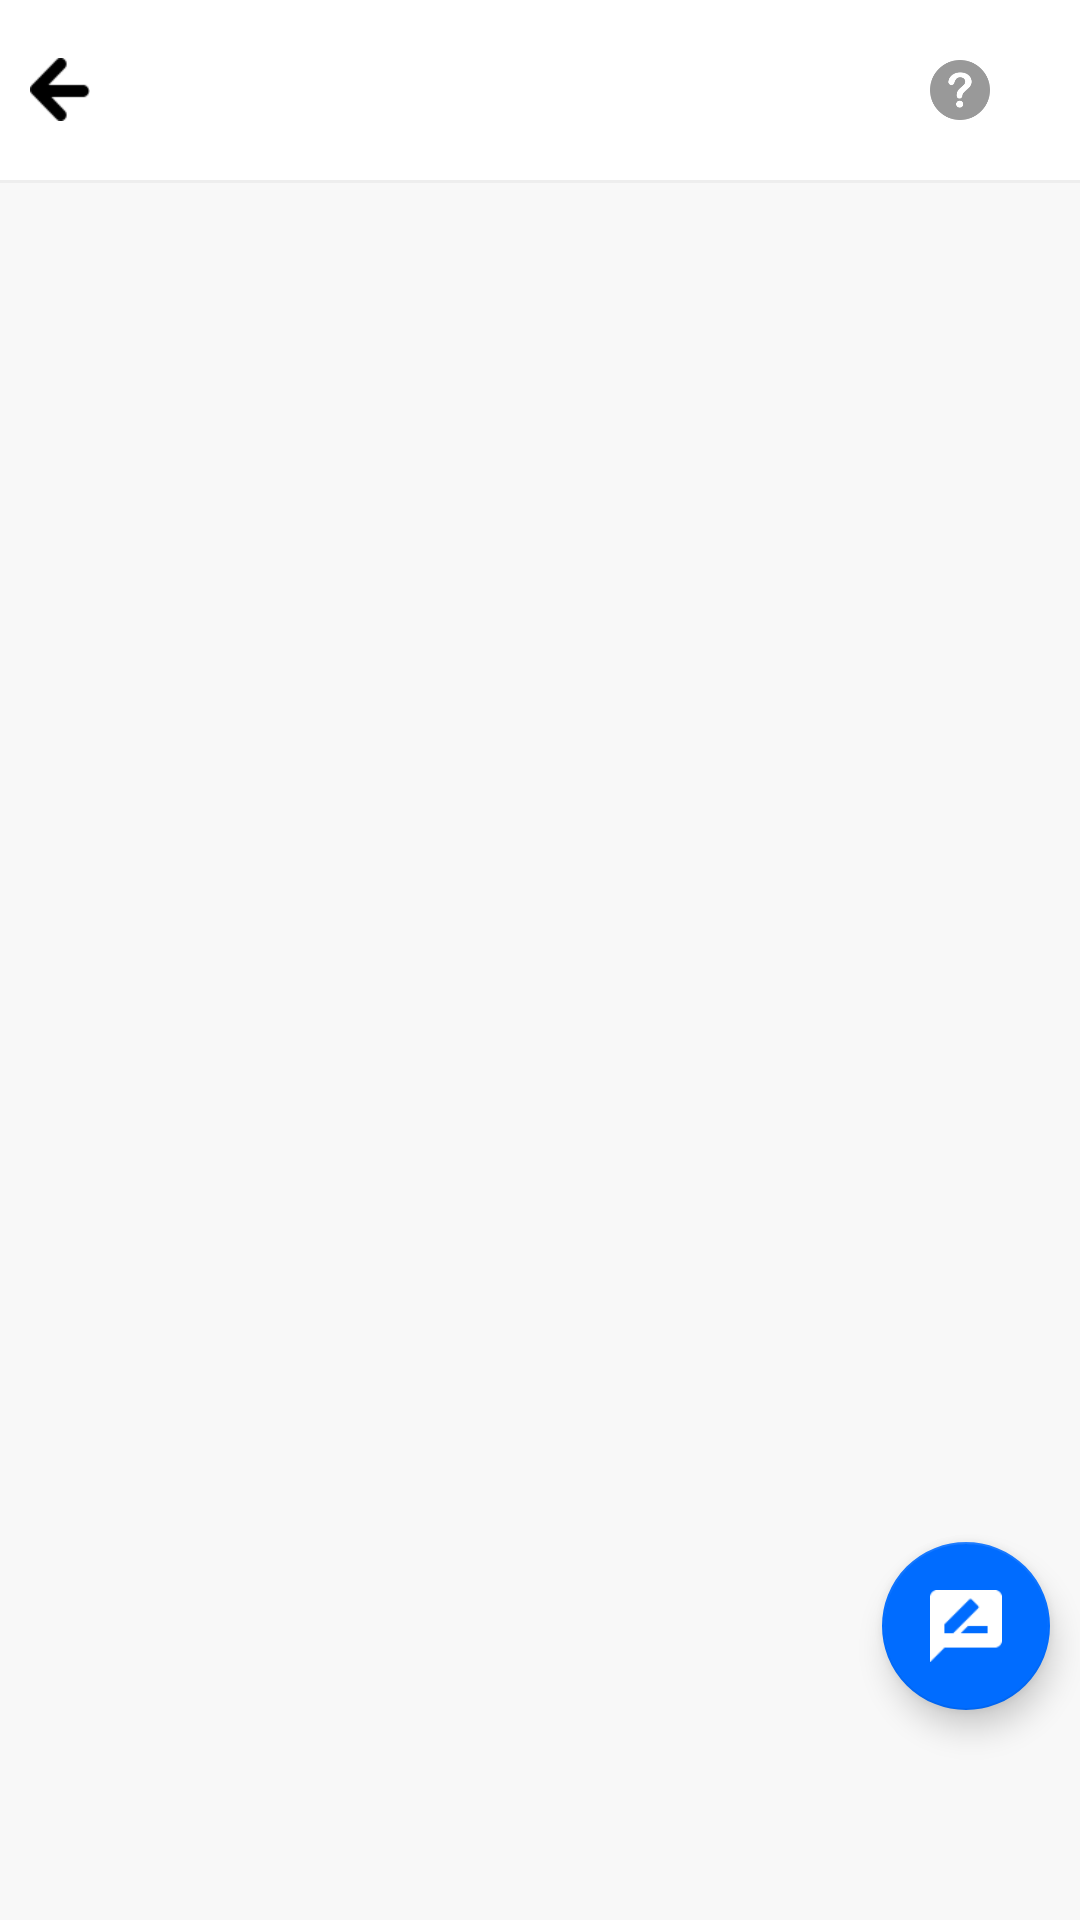

Named icons in this screenshot (1080px x 1920px) and their bounding boxes, (x1, y1, x2, y2):
fab: (882, 1542, 1050, 1710)
question mark: (930, 60, 990, 120)
